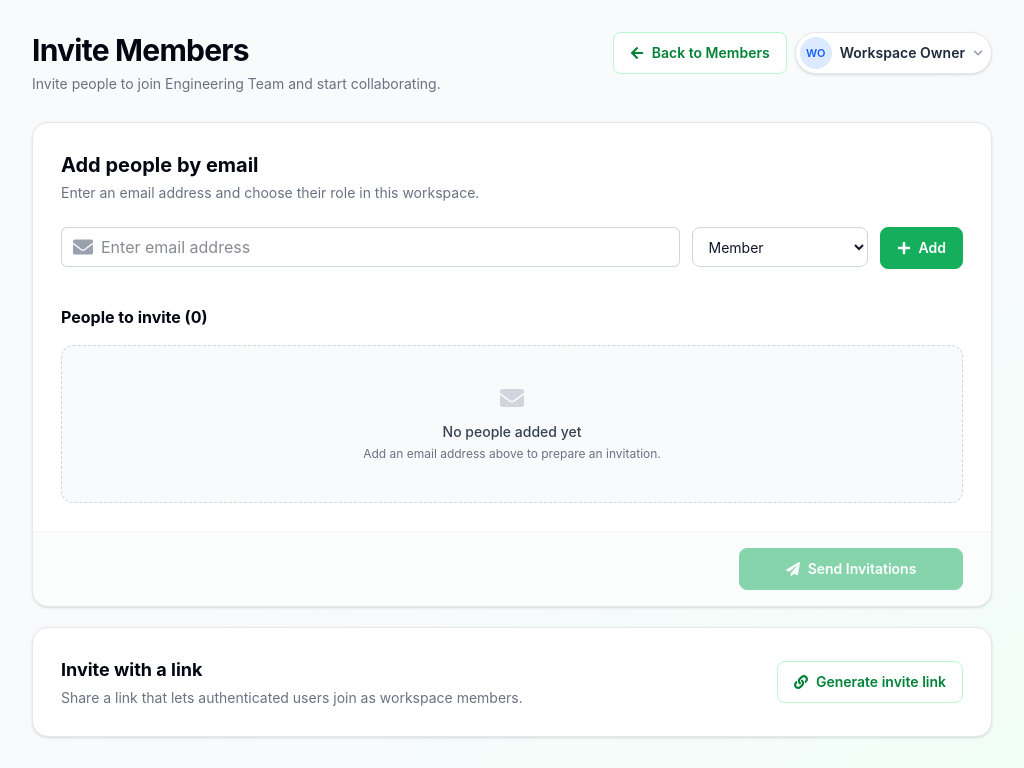
Test: Invite members page › normalizes added emails and rejects a duplicate email
The image size is (1024, 768).
Expected: the heading "Invite Members" is shown, [32,32,249,68]
Type " MEMBER@Example.COM " into the field labelled "email address". click: point(370, 247)
box: [61,227,680,267]
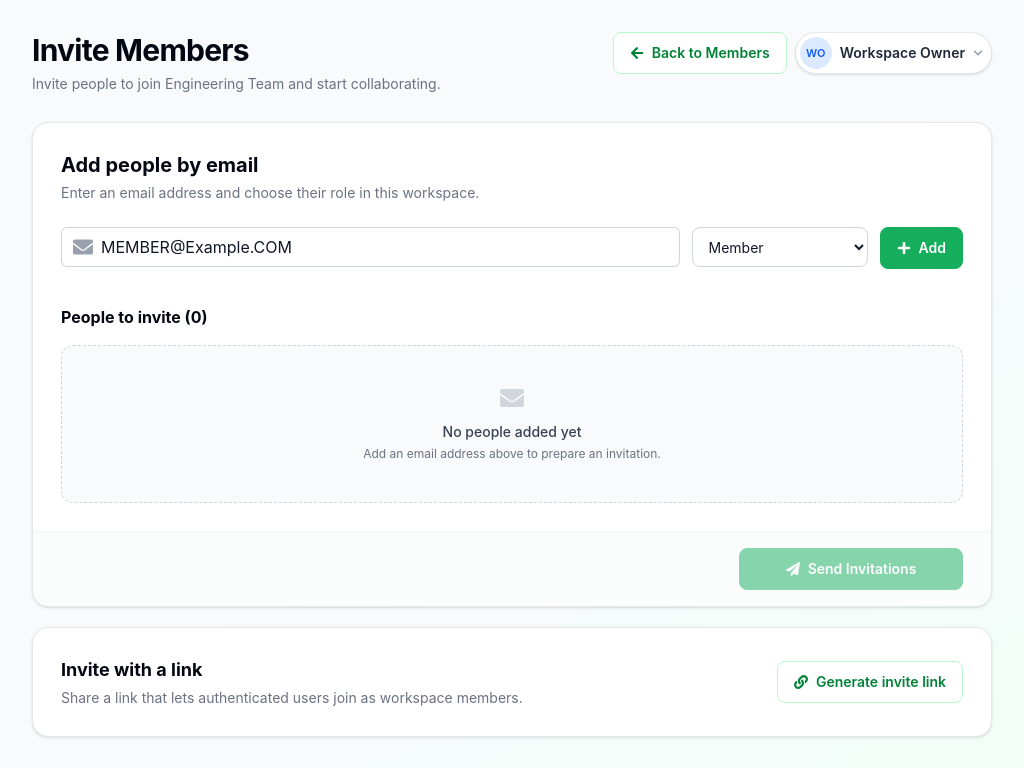
Select "Admin" in the dropdown named "Workspace role". click: point(780, 247)
box: [692,227,868,267]
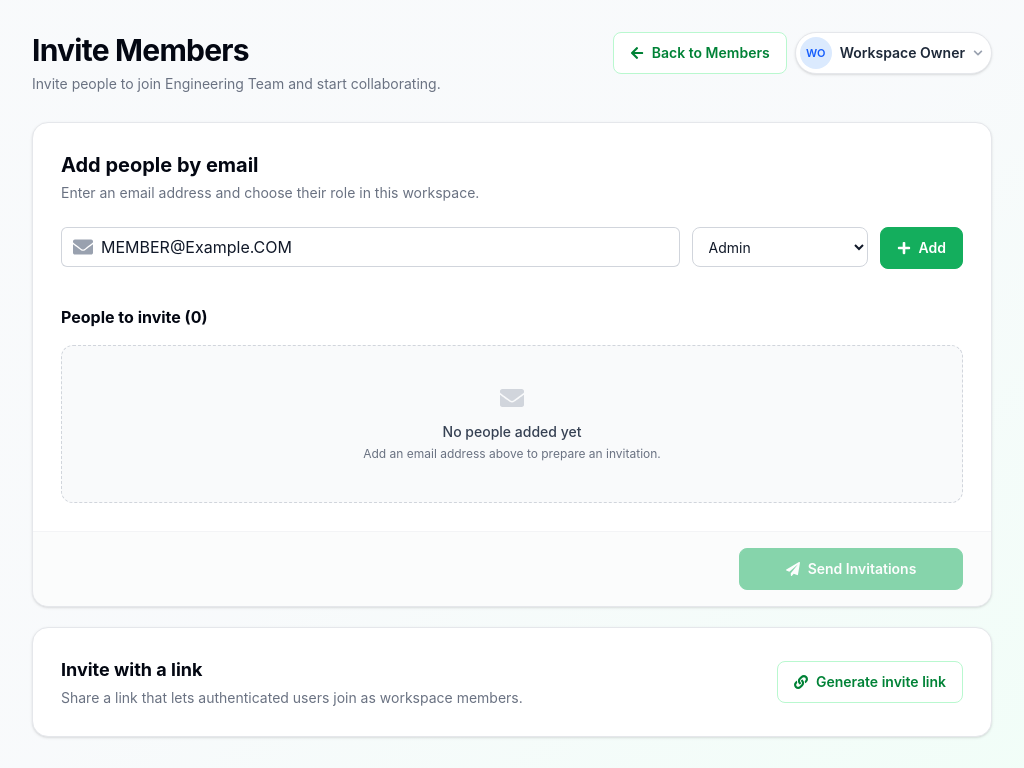
Click the button "Add". click: point(921, 248)
box: [880,227,963,269]
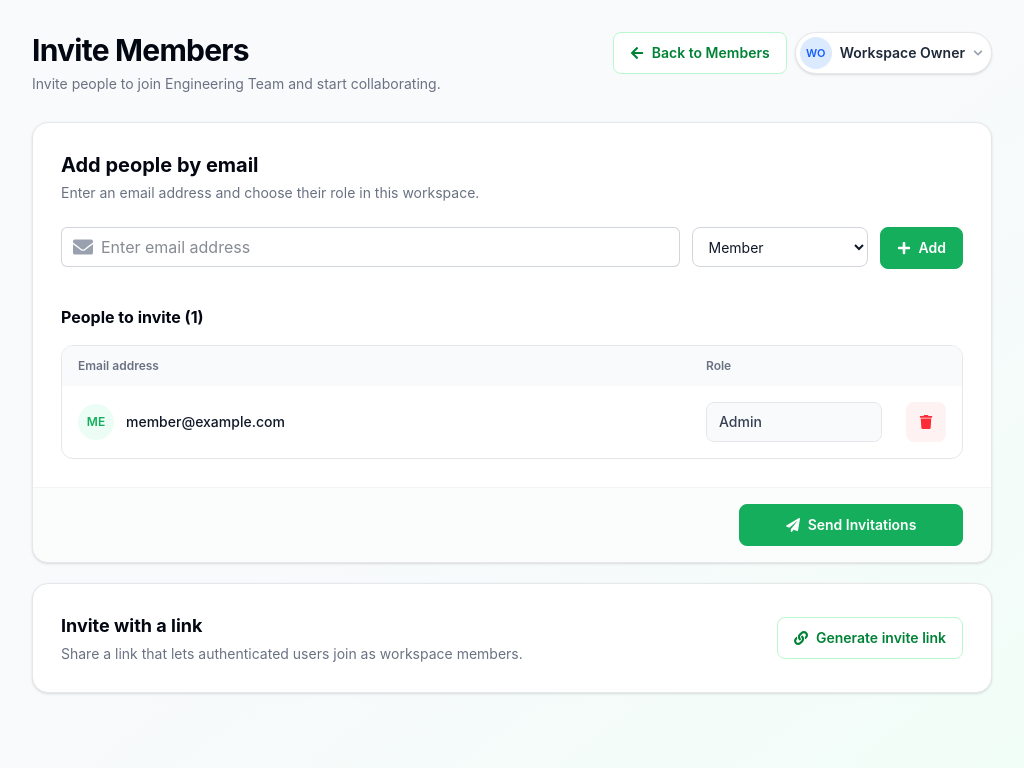
Expected: the text "member@example.com" is shown, [126,412,285,432]
Expected: the text named "Role for member@example.com: Admin" is shown, [706,402,882,442]
Type "MEMBER@example.com" into the field labelled "email address". click: point(370, 247)
box: [61,227,680,267]
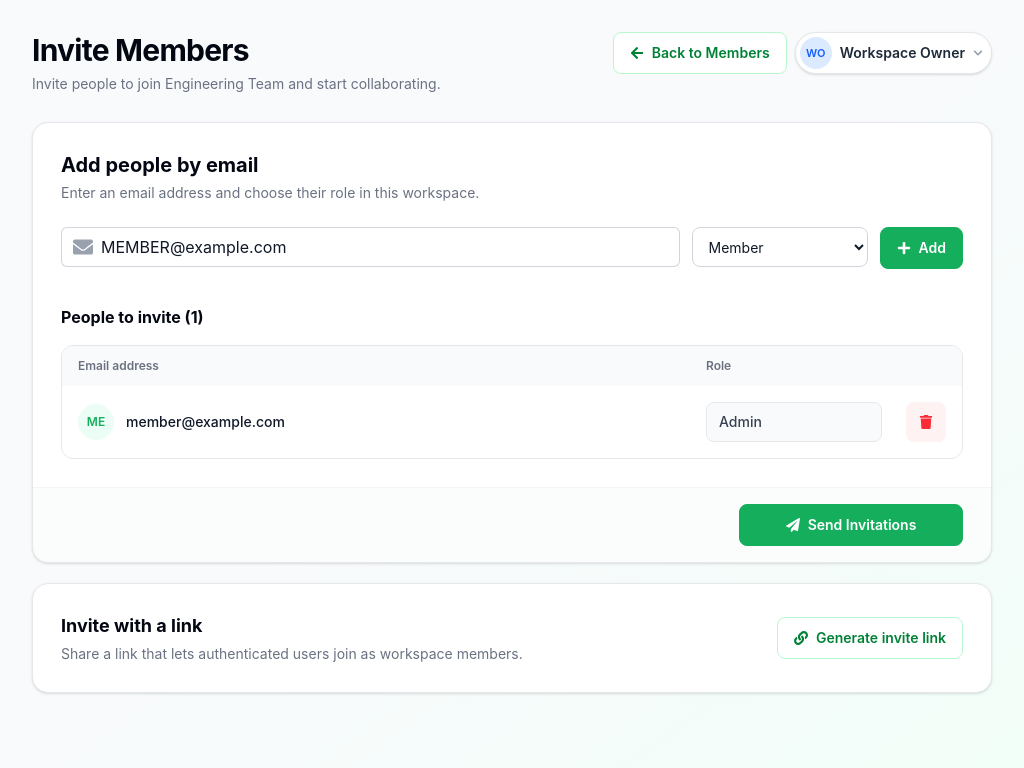
Click the button "Add". click: point(921, 248)
box: [880,227,963,269]
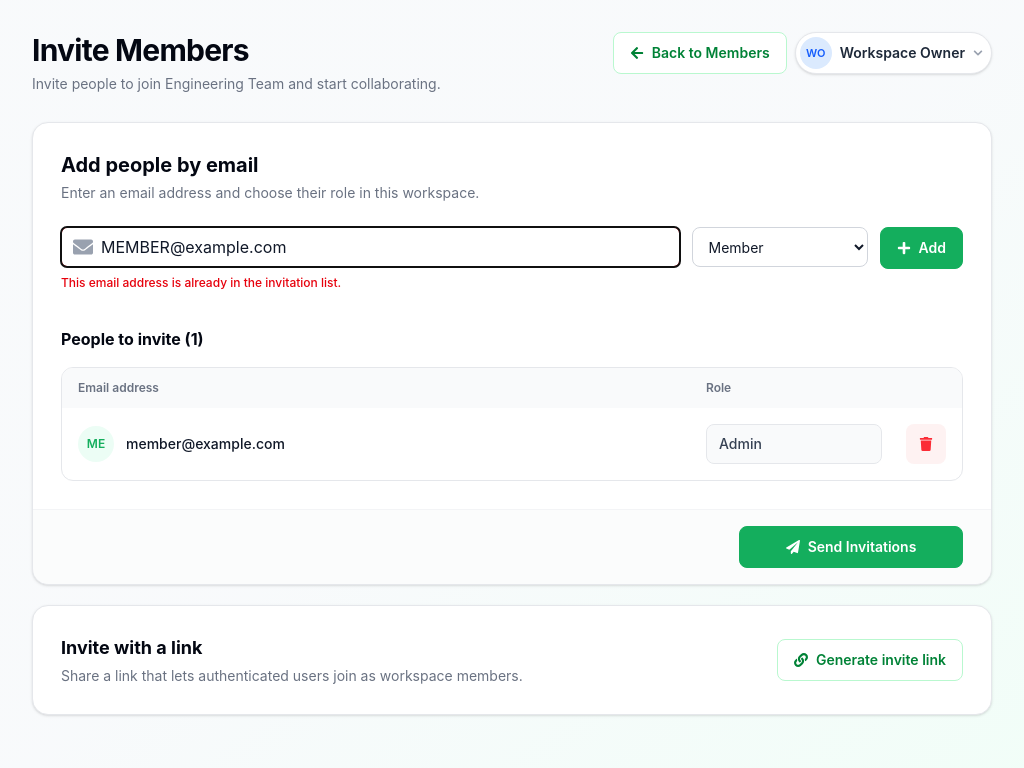
Expected: the text "member@example.com" is shown once, [126,434,285,454]
Expected: the text "This email address is already in the invitation list." is shown, [61,275,341,290]
